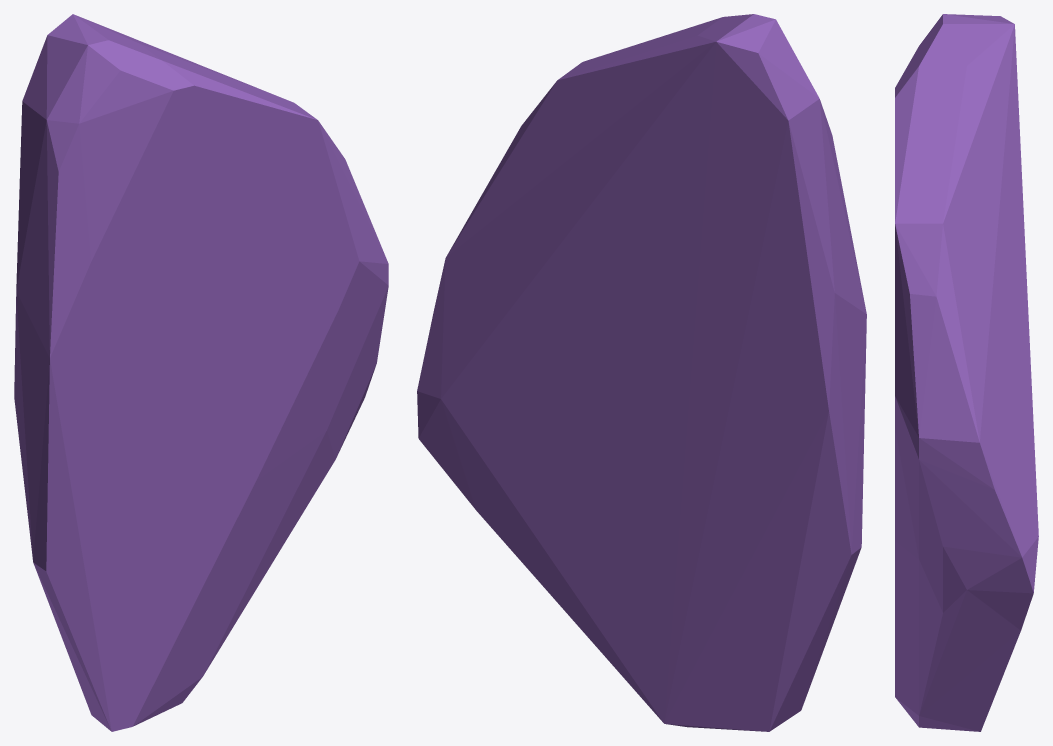
File: mouth_cup004.obj
The picture shows the model from 3 angles, left to right: view 1: azimuth 30°, elevation 25°; view 2: azimuth 150°, elevation 25°; view 3: azimuth 270°, elevation 25°; orthographic projection. The views are drawn at different scales.
Parts seen in each view (by area): view 1: mouth_cup004_mouth_cup004.001; view 2: mouth_cup004_mouth_cup004.001; view 3: mouth_cup004_mouth_cup004.001.
Boxes of the visible parts, bbox=[...] form: mouth_cup004_mouth_cup004.001: bbox=[14, 14, 388, 731]; mouth_cup004_mouth_cup004.001: bbox=[417, 14, 866, 731]; mouth_cup004_mouth_cup004.001: bbox=[895, 14, 1038, 731].
Bounding box in the file's own units: 0.1659 × 0.2946 × 0.0566.
